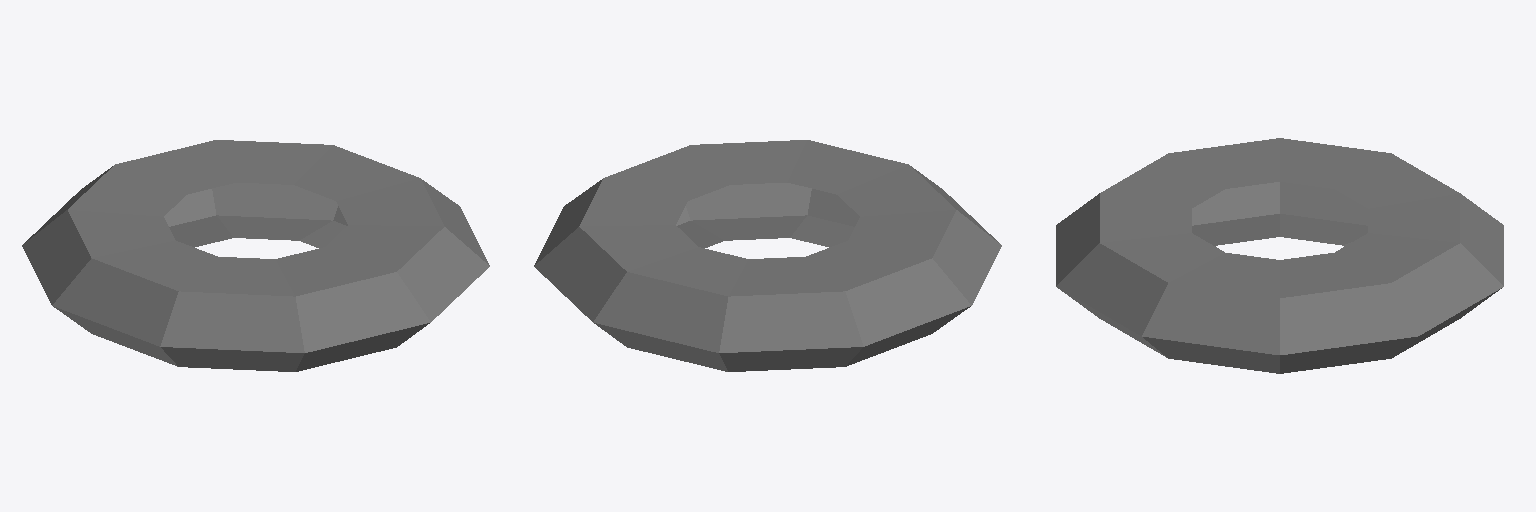
The model's file is Slash.obj.
3 renders of one model, left to right at view 1: azimuth 30°, elevation 25°; view 2: azimuth 150°, elevation 25°; view 3: azimuth 270°, elevation 25°, orthographic.
Visible parts, largest first — view 1: Slash; view 2: Slash; view 3: Slash.
Part boxes in pixels (left/top/right/bottom): Slash: left=22, top=140, right=489, bottom=371; Slash: left=534, top=140, right=1001, bottom=371; Slash: left=1056, top=138, right=1503, bottom=373.
Bounding box in the file's own units: 2.48 × 0.44 × 2.36.